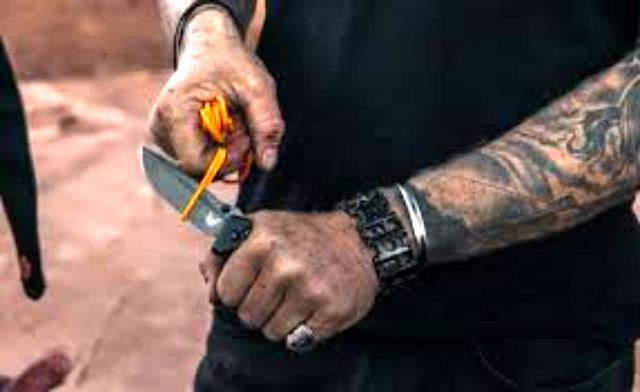pocket-knife: (138, 144, 262, 292)
